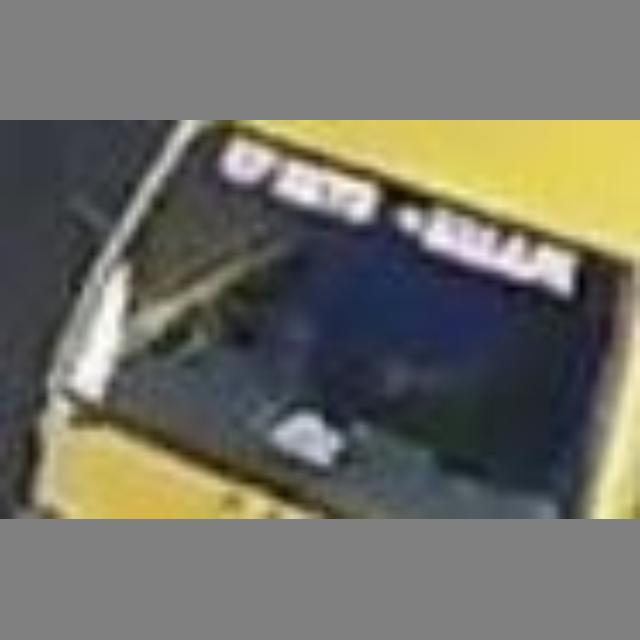tidak-pakai: (241, 209, 530, 409)
